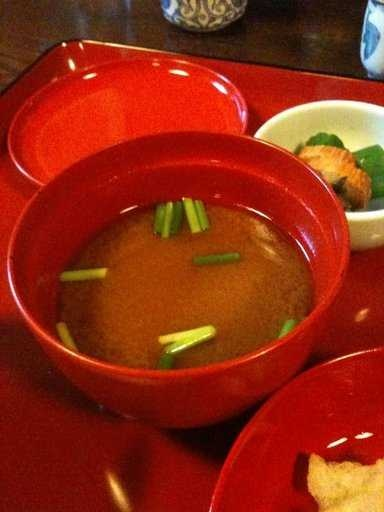soup: (27, 169, 300, 358)
